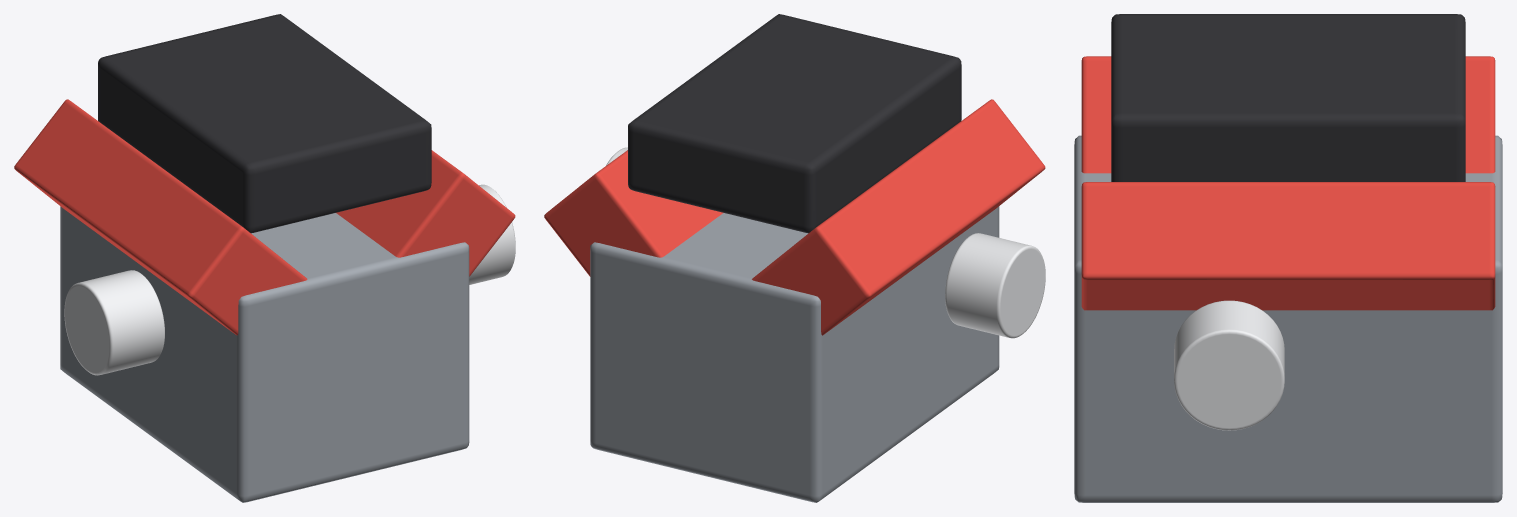
Rendered from powertrain_engine.glb.
The picture shows the model from 3 angles, left to right: view 1: azimuth 30°, elevation 25°; view 2: azimuth 150°, elevation 25°; view 3: azimuth 270°, elevation 25°; orthographic projection. The views are drawn at different scales.
Parts seen in each view (by area): view 1: ENGINE_BLOCK, ENGINE_INTAKE_PLENUM, Cube, Cube.001, TURBO_-0.32, TURBO_0.32; view 2: ENGINE_BLOCK, ENGINE_INTAKE_PLENUM, Cube, Cube.001, TURBO_-0.32; view 3: ENGINE_BLOCK, ENGINE_INTAKE_PLENUM, Cube.001, TURBO_0.32, Cube.
Boxes of the visible parts, x1,y1,x2,y2 form: ENGINE_BLOCK: (60, 206, 469, 502); ENGINE_INTAKE_PLENUM: (98, 14, 431, 233); Cube: (14, 99, 307, 335); Cube.001: (336, 150, 515, 276); TURBO_-0.32: (64, 270, 164, 375); TURBO_0.32: (469, 184, 515, 284); ENGINE_BLOCK: (590, 206, 999, 502); ENGINE_INTAKE_PLENUM: (628, 14, 961, 233); Cube: (752, 99, 1045, 335); Cube.001: (544, 150, 723, 276); TURBO_-0.32: (945, 233, 1045, 338); ENGINE_BLOCK: (1074, 135, 1502, 502); ENGINE_INTAKE_PLENUM: (1111, 14, 1465, 181); Cube.001: (1081, 182, 1495, 310); TURBO_0.32: (1174, 300, 1284, 430); Cube: (1081, 56, 1495, 173).
Bounding box in the file's own units: 0.74 × 0.56 × 0.58.
